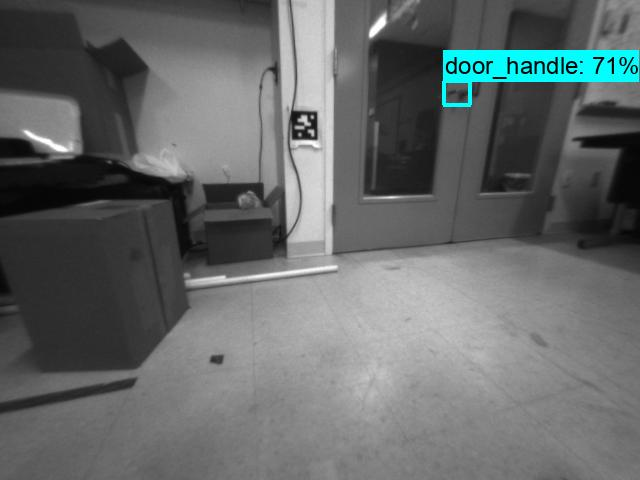door_handle: (443, 83, 470, 103)
